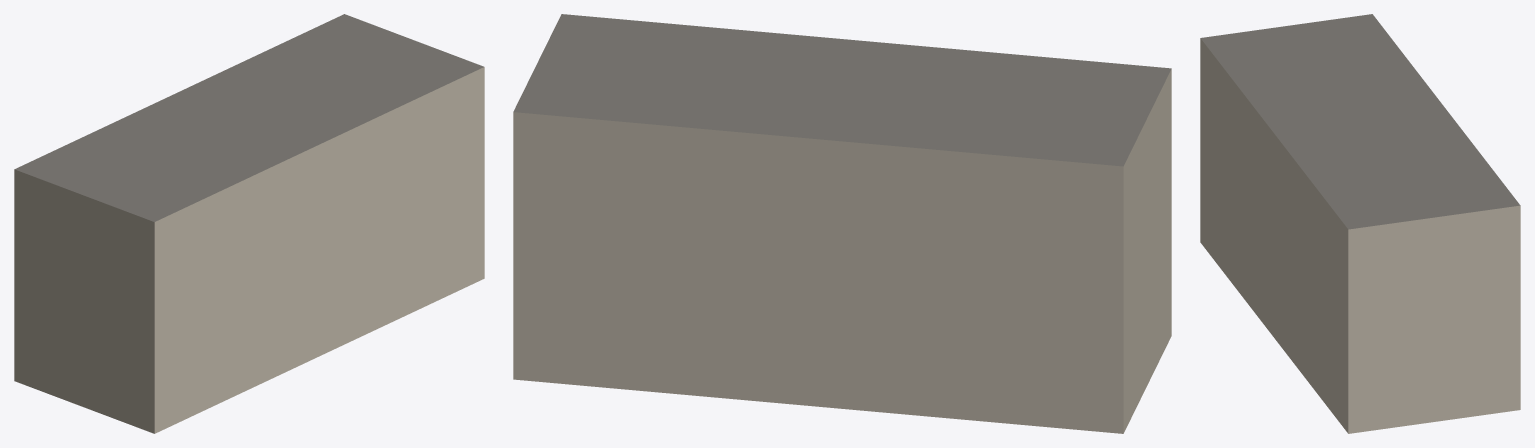
3 renders of one model, left to right at view 1: azimuth 30°, elevation 25°; view 2: azimuth 150°, elevation 25°; view 3: azimuth 270°, elevation 25°, orthographic. The views are drawn at different scales.
Visible parts, largest first — view 1: HP-w299010085; view 2: HP-w299010085; view 3: HP-w299010085.
Boxes of the visible parts, x1=… form: HP-w299010085: x1=14, y1=14, x2=484, y2=433; HP-w299010085: x1=513, y1=14, x2=1171, y2=433; HP-w299010085: x1=1200, y1=14, x2=1520, y2=433.
Bounding box in the file's own units: 40.7 × 18 × 25.55.
